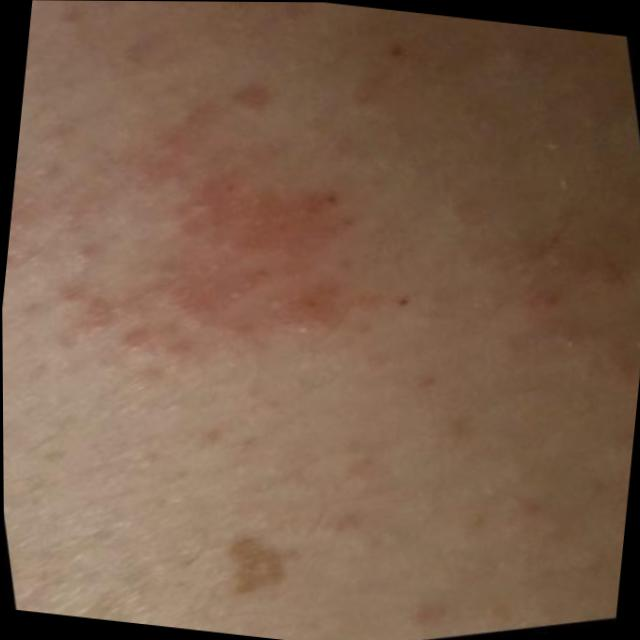Eczema: (84, 102, 347, 381)
